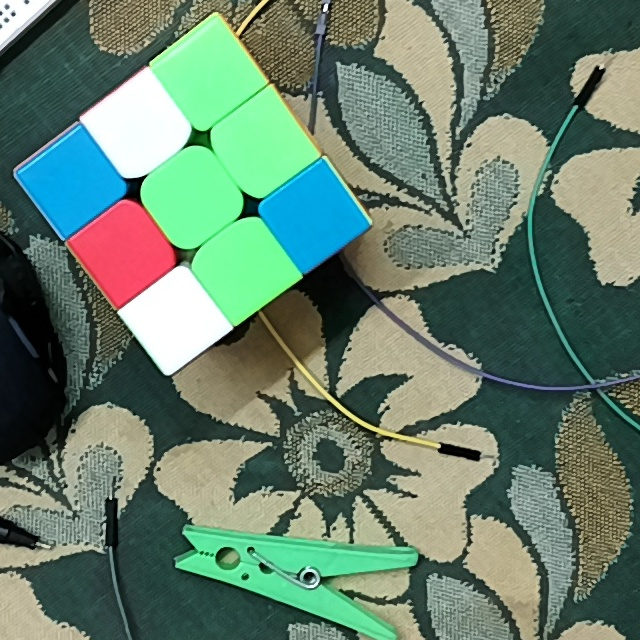tile: (177, 46, 240, 103), (164, 169, 222, 228), (238, 114, 294, 174), (41, 156, 99, 213), (286, 188, 343, 246), (146, 290, 204, 347), (94, 226, 151, 283), (108, 99, 167, 154), (212, 243, 275, 293)
